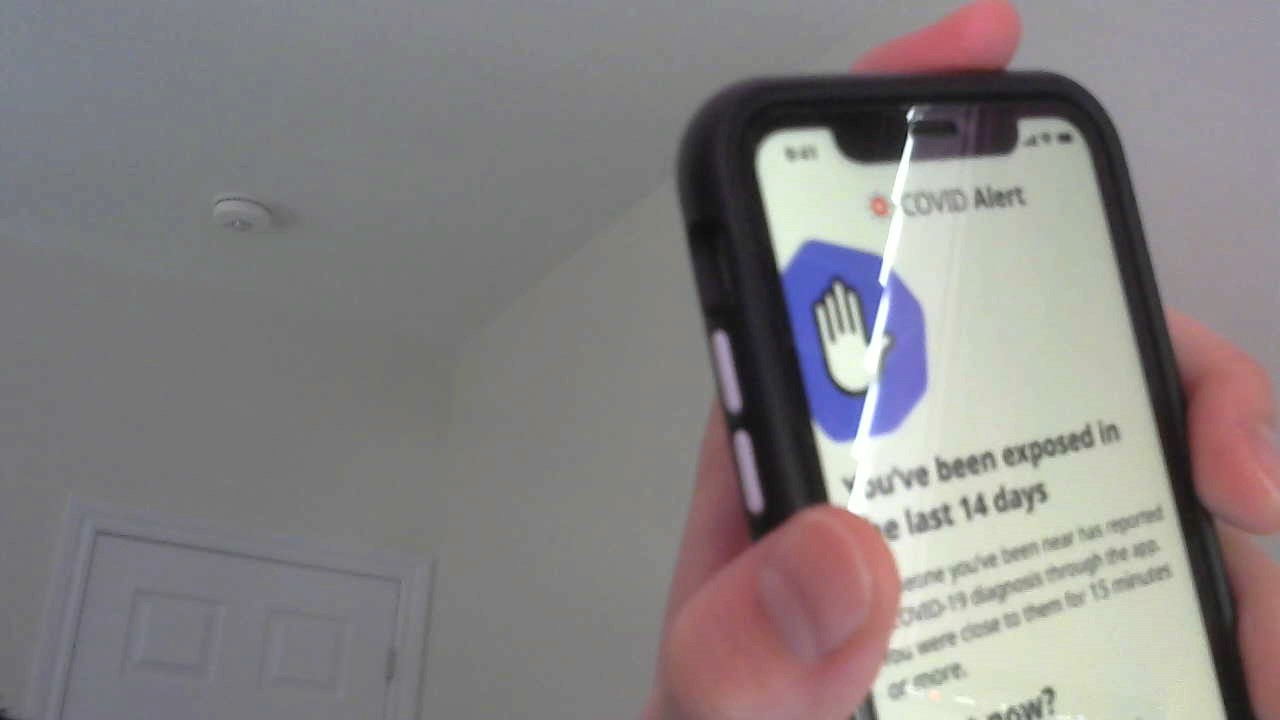Exposed: (758, 224, 1152, 547)
